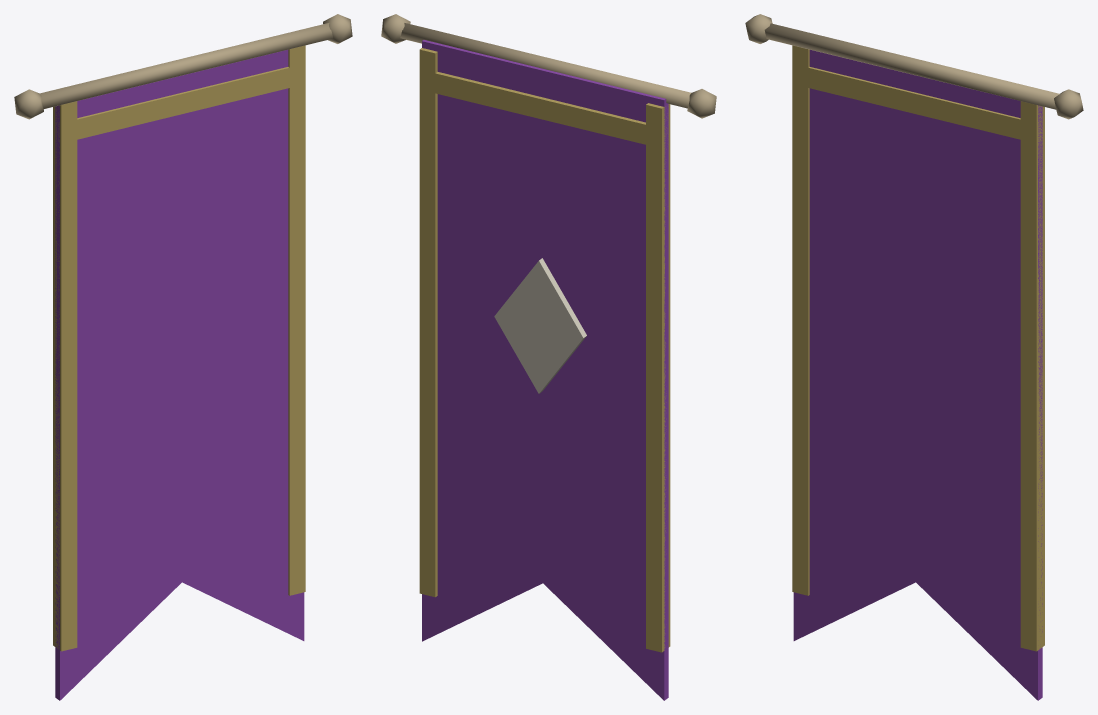
Rendered from illuminant_slime_banner_v0.glb.
The picture shows the model from 3 angles, left to right: view 1: azimuth 30°, elevation 25°; view 2: azimuth 150°, elevation 25°; view 3: azimuth 330°, elevation 25°; orthographic projection.
Visible parts, largest first — view 1: illuminant_slime_banner_v0; view 2: illuminant_slime_banner_v0; view 3: illuminant_slime_banner_v0.
Boxes of the visible parts, x1=… form: illuminant_slime_banner_v0: x1=14, y1=14, x2=352, y2=700; illuminant_slime_banner_v0: x1=381, y1=14, x2=716, y2=700; illuminant_slime_banner_v0: x1=745, y1=14, x2=1083, y2=700.
Size of the model in its own units: 1.04 by 1.84 by 0.0933.
